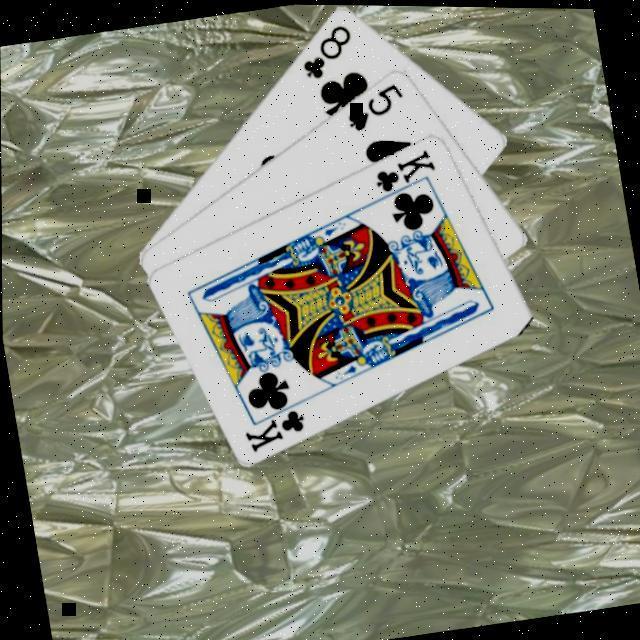5S: (337, 78, 409, 137)
8C: (291, 20, 359, 86)
KC: (235, 395, 312, 458), (365, 145, 441, 208)
